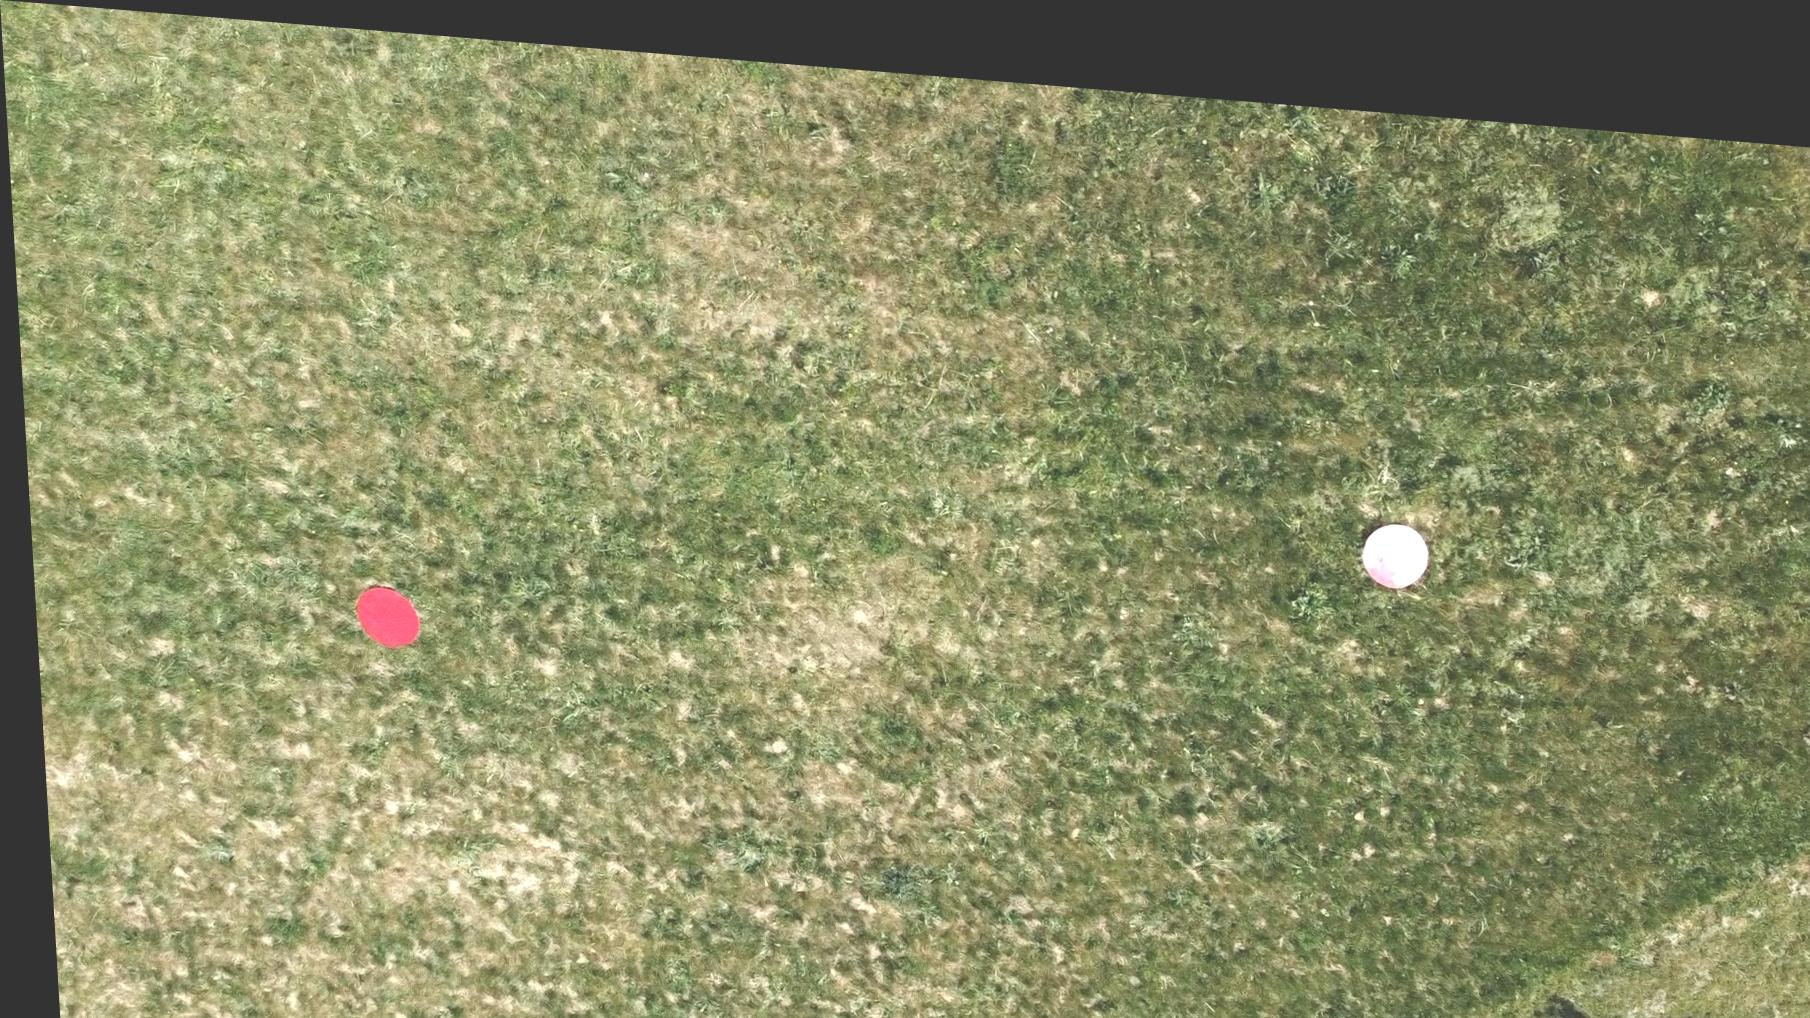Red: (1351, 493, 1431, 569), (344, 575, 419, 645)
